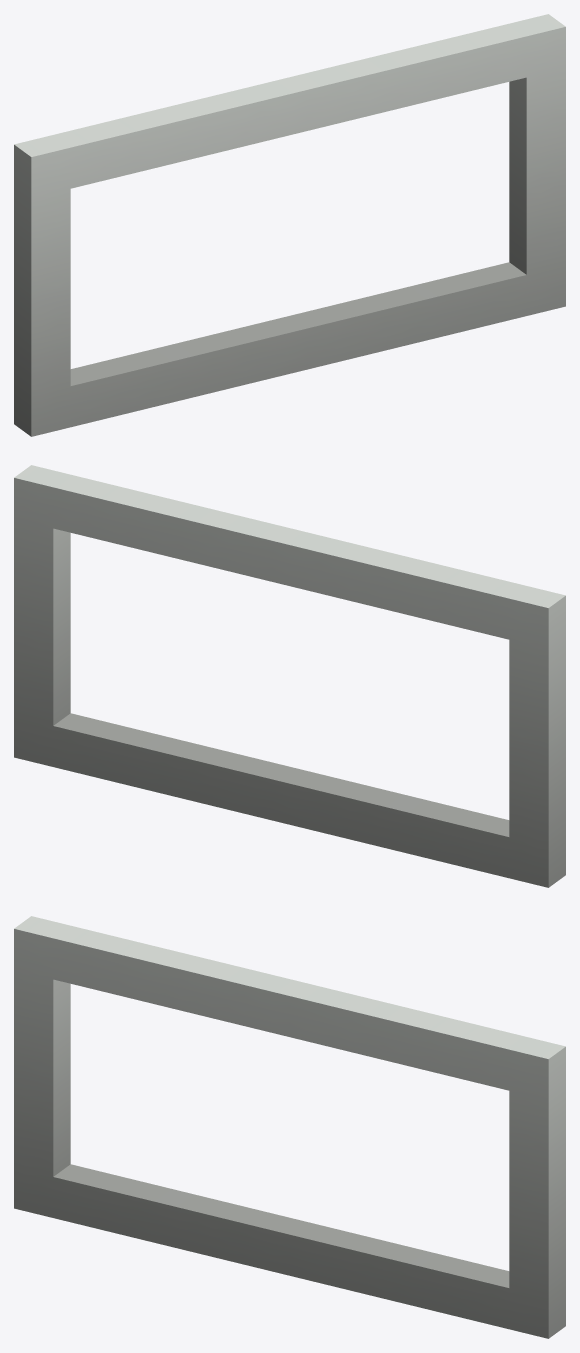
File: Frame_open.fbx
3 renders of one model, top to bottom at view 1: azimuth 30°, elevation 25°; view 2: azimuth 150°, elevation 25°; view 3: azimuth 330°, elevation 25°, orthographic.
Visible parts, largest first — view 1: Frame_open; view 2: Frame_open; view 3: Frame_open.
Part boxes in pixels (x1,y1,x2,y2): Frame_open: [14, 14, 565, 436]; Frame_open: [14, 465, 565, 887]; Frame_open: [14, 916, 565, 1338].
Size of the model in its own units: 400 by 200 by 22.56.
